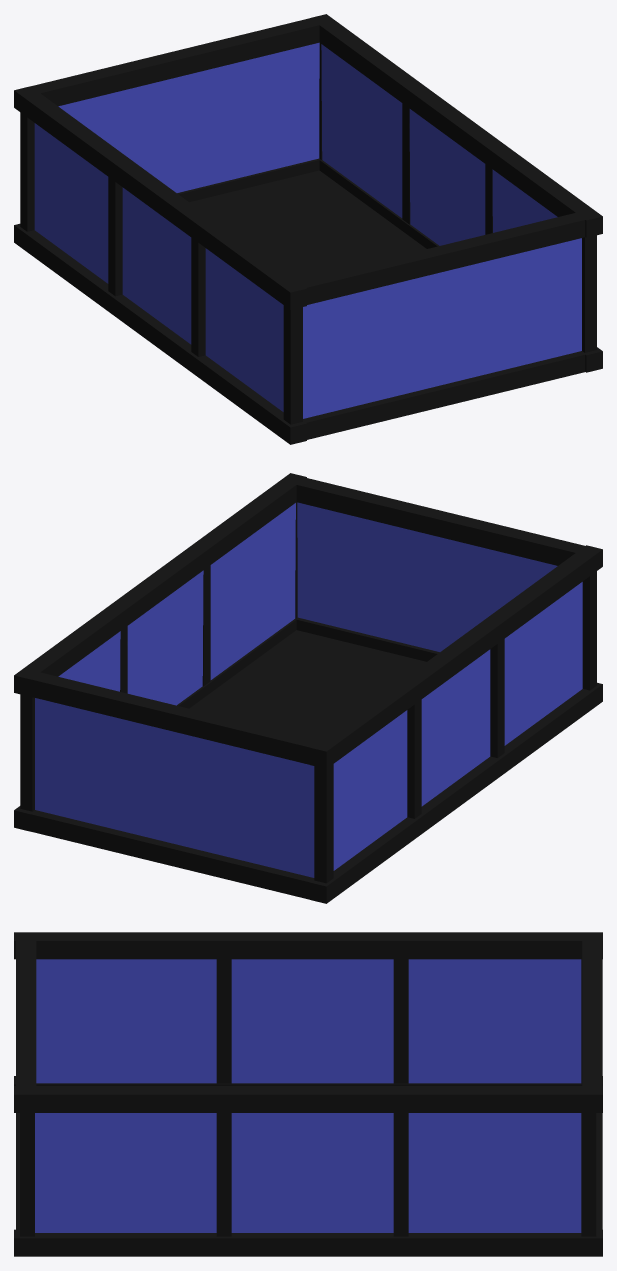
Rendered from basketroverbody.obj.
The picture shows the model from 3 angles, top to bottom: view 1: azimuth 30°, elevation 25°; view 2: azimuth 150°, elevation 25°; view 3: azimuth 270°, elevation 25°; orthographic projection. The views are drawn at different scales.
Parts seen in each view (by area): view 1: Basket_Body_Plane; view 2: Basket_Body_Plane; view 3: Basket_Body_Plane.
Part boxes in pixels (x1,y1,x2,y2): Basket_Body_Plane: (14, 14, 602, 444); Basket_Body_Plane: (14, 473, 602, 903); Basket_Body_Plane: (14, 932, 602, 1256).
Bounding box in the file's own units: 1.11 × 0.5146 × 1.69.
1 material, 1 textured.
